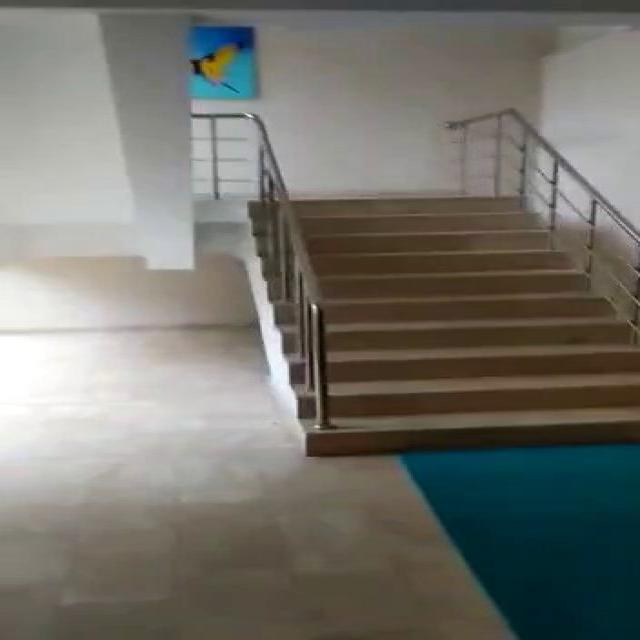stair: (237, 199, 640, 458)
